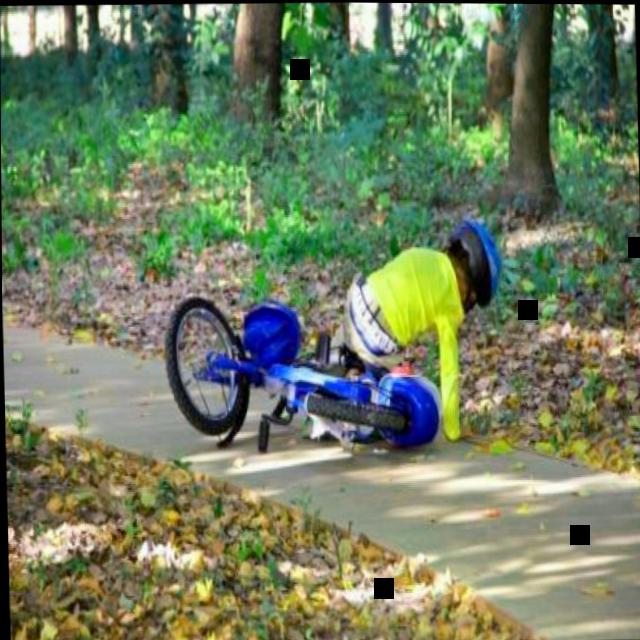Fall-Detected: (323, 185, 515, 443)
